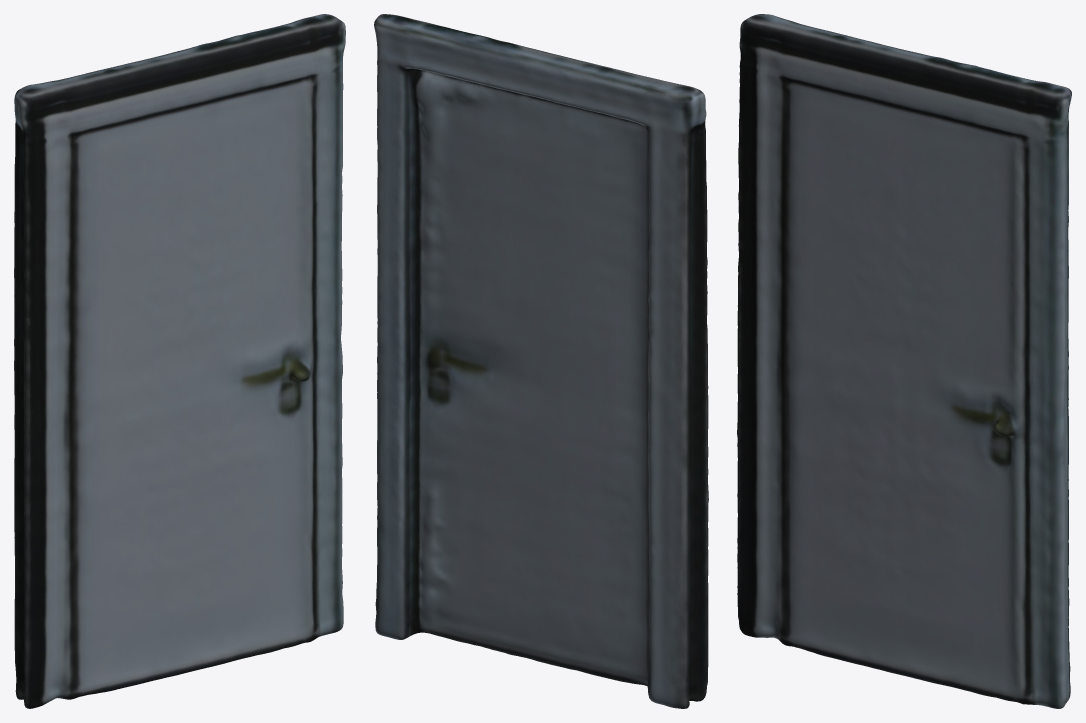
Rendered from cdf42012f66f_door__3d_asset_0_gl.fbx.
3 renders of one model, left to right at view 1: azimuth 30°, elevation 25°; view 2: azimuth 150°, elevation 25°; view 3: azimuth 330°, elevation 25°, orthographic.
Parts seen in each view (by area): view 1: high_poly; view 2: high_poly; view 3: high_poly.
Part boxes in pixels (x1,y1,x2,y2): high_poly: (14, 14, 345, 708); high_poly: (374, 14, 708, 708); high_poly: (737, 14, 1071, 708).
Size of the model in its own units: 55.26 by 100 by 8.23.
